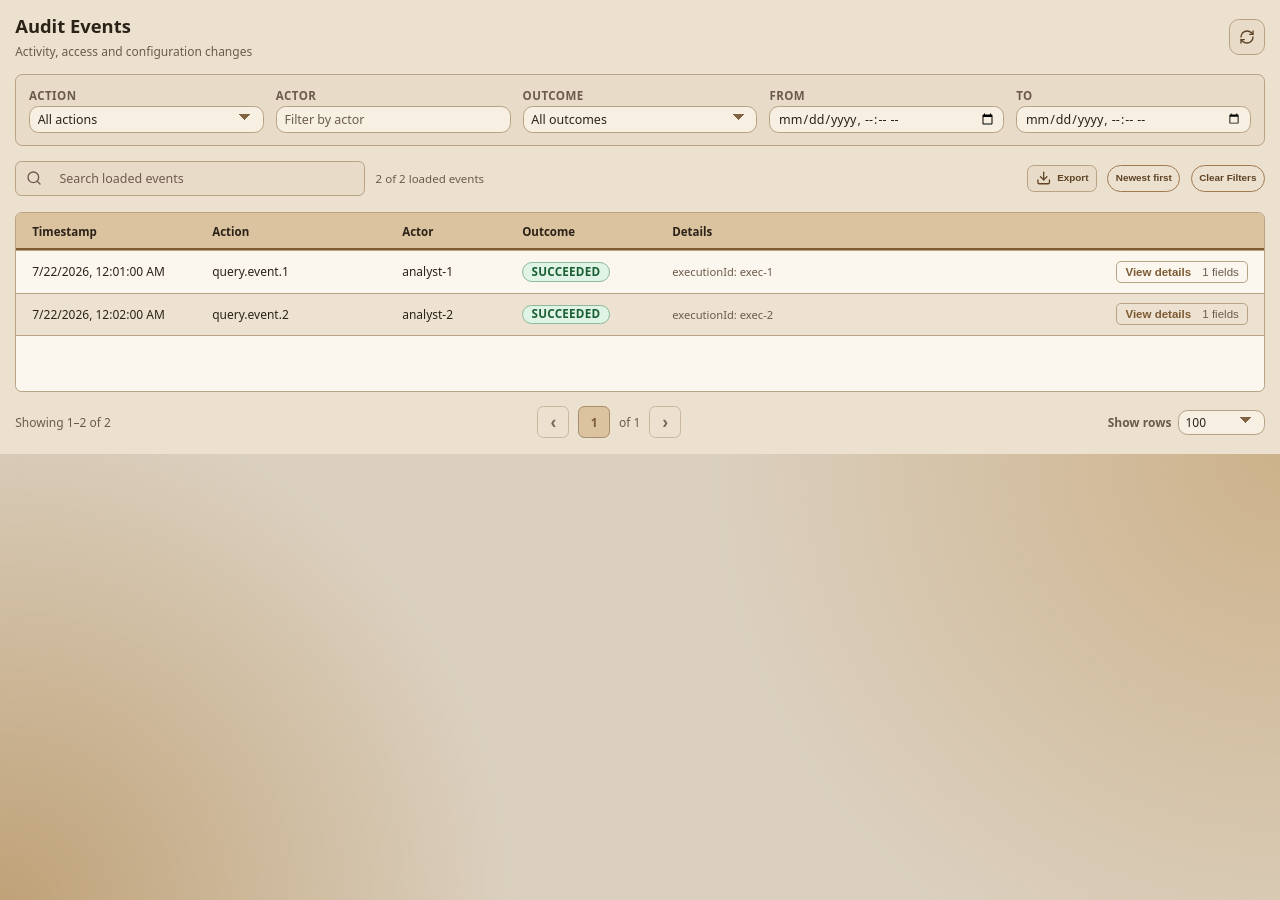
Test case: AuditEventsSection › searches only loaded events and exposes structured details on demand
Type "exec-2" into the field labelled "Search loaded events".
click(207, 178); type("exec-2")  # box [50,162,364,195]
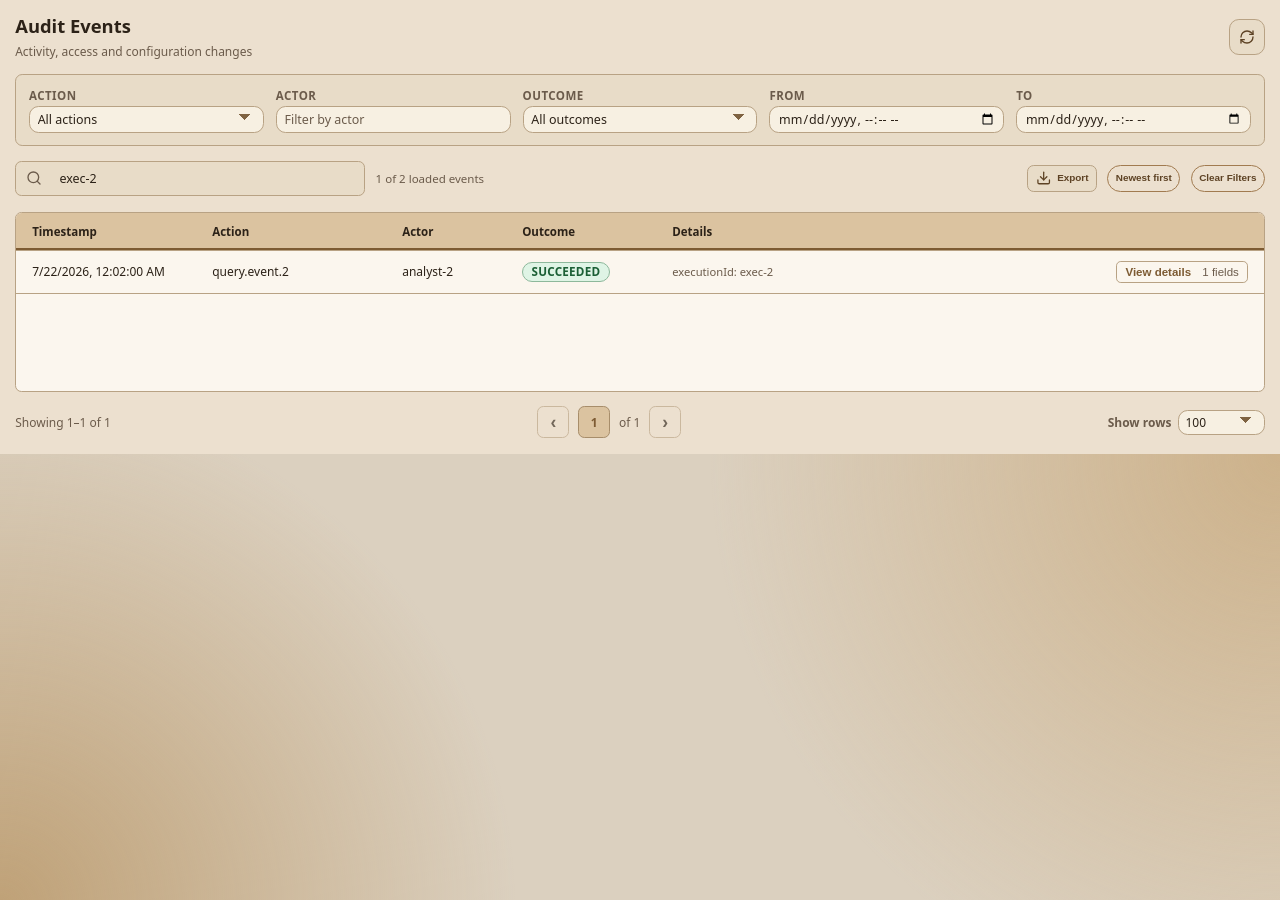
Expected: the text "analyst-1" is gone
Expected: the text "1 of 2 loaded events" is shown, [376,171,484,186]
Click the button "View details 1 fields".
click(1182, 272)  # box [1116,261,1248,283]
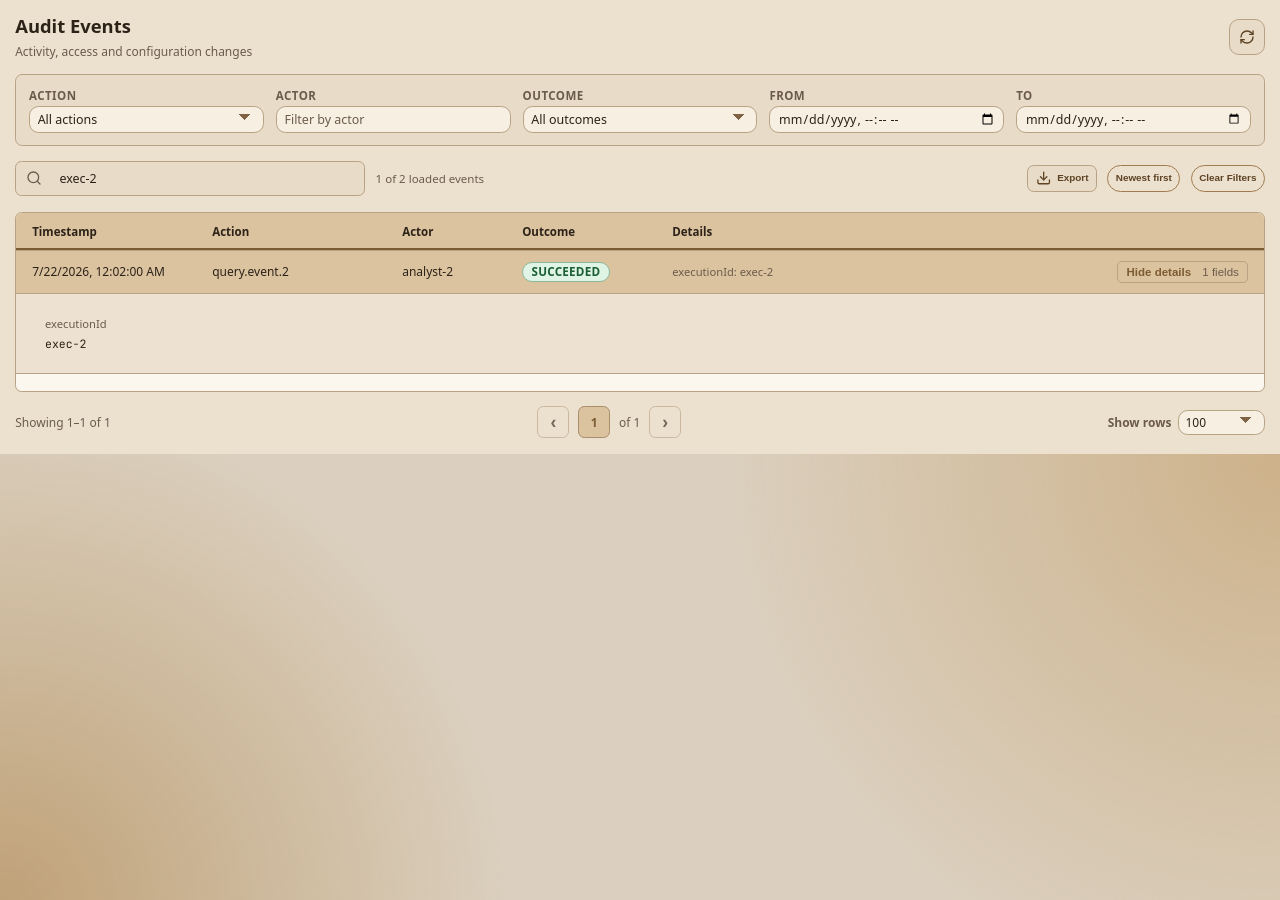
Expected: the text "exec-2" is shown, [45,336,86,351]
Expected: the text "executionId" is shown, [45,316,107,331]
Click the button "Hide details 1 fields".
click(1183, 272)  # box [1118,261,1248,283]
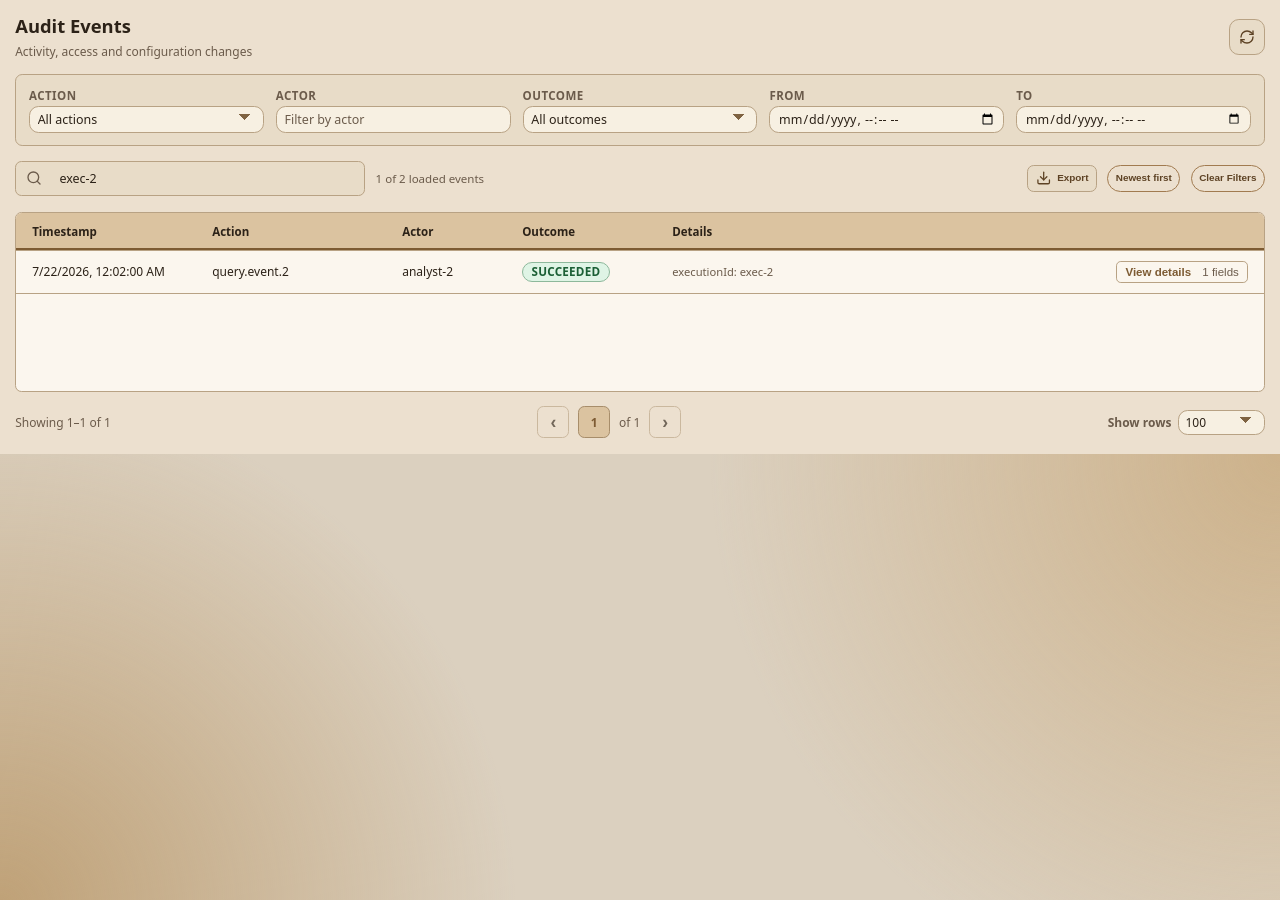
Click the button "Clear Filters".
click(1228, 178)  # box [1191,165,1265,192]
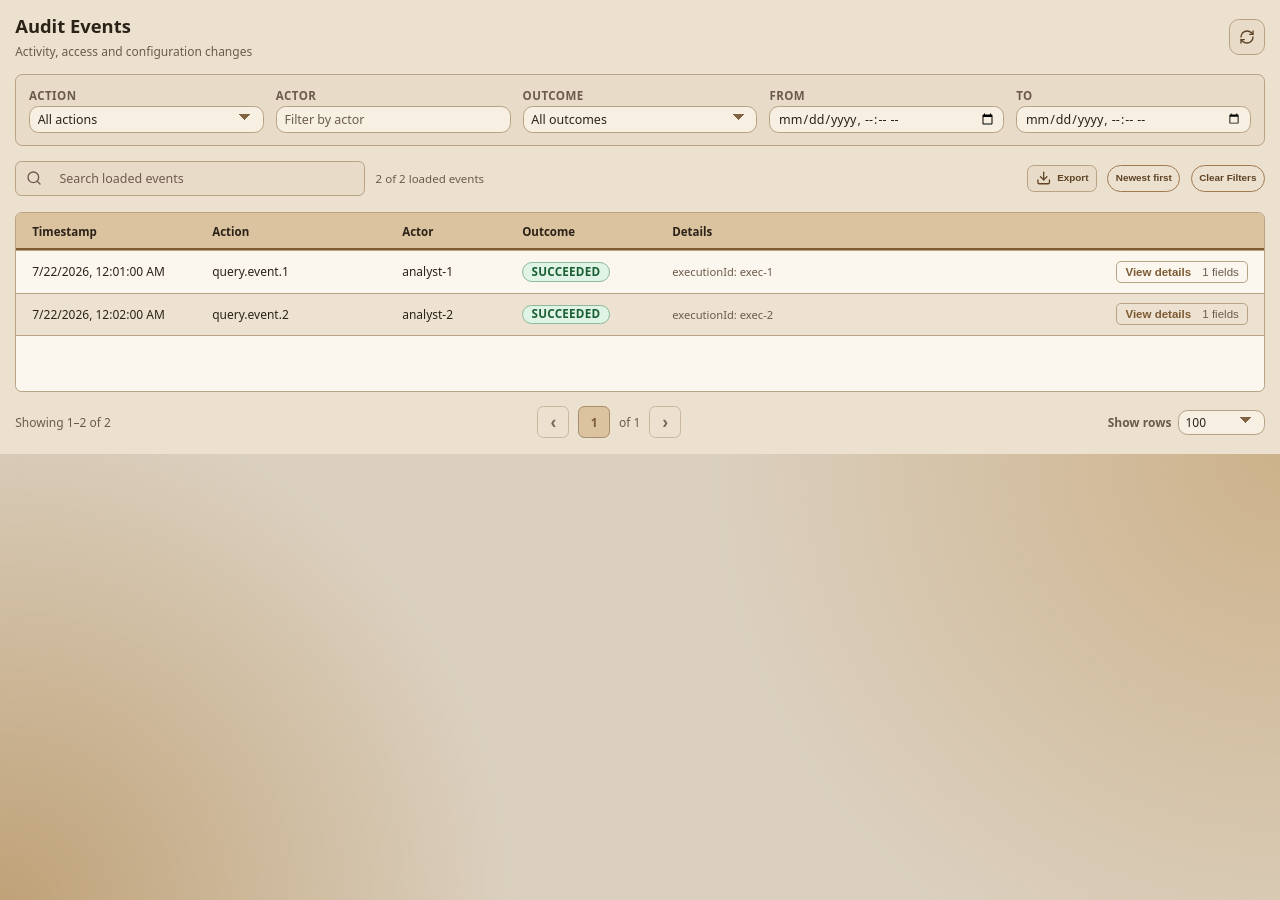
Expected: the text "analyst-1" is shown, [386,251,506,293]
